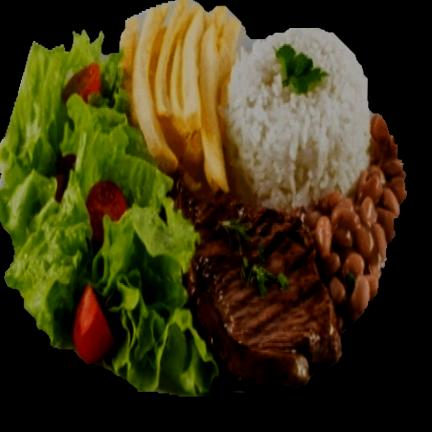beans: (300, 117, 406, 336)
meat: (170, 177, 342, 394)
potato: (120, 0, 241, 195)
rice: (226, 25, 372, 207)
salad: (0, 30, 237, 394)
tomato: (72, 285, 115, 363), (85, 183, 128, 249), (57, 151, 78, 206), (67, 67, 100, 96)
